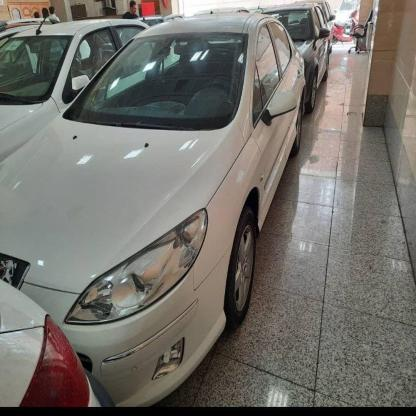Car: (0, 9, 311, 416), (0, 14, 155, 163), (263, 0, 341, 111)
